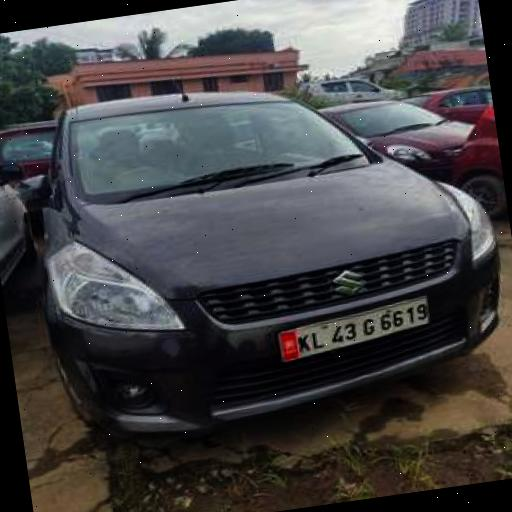license_plate`: (272, 293, 432, 362)
